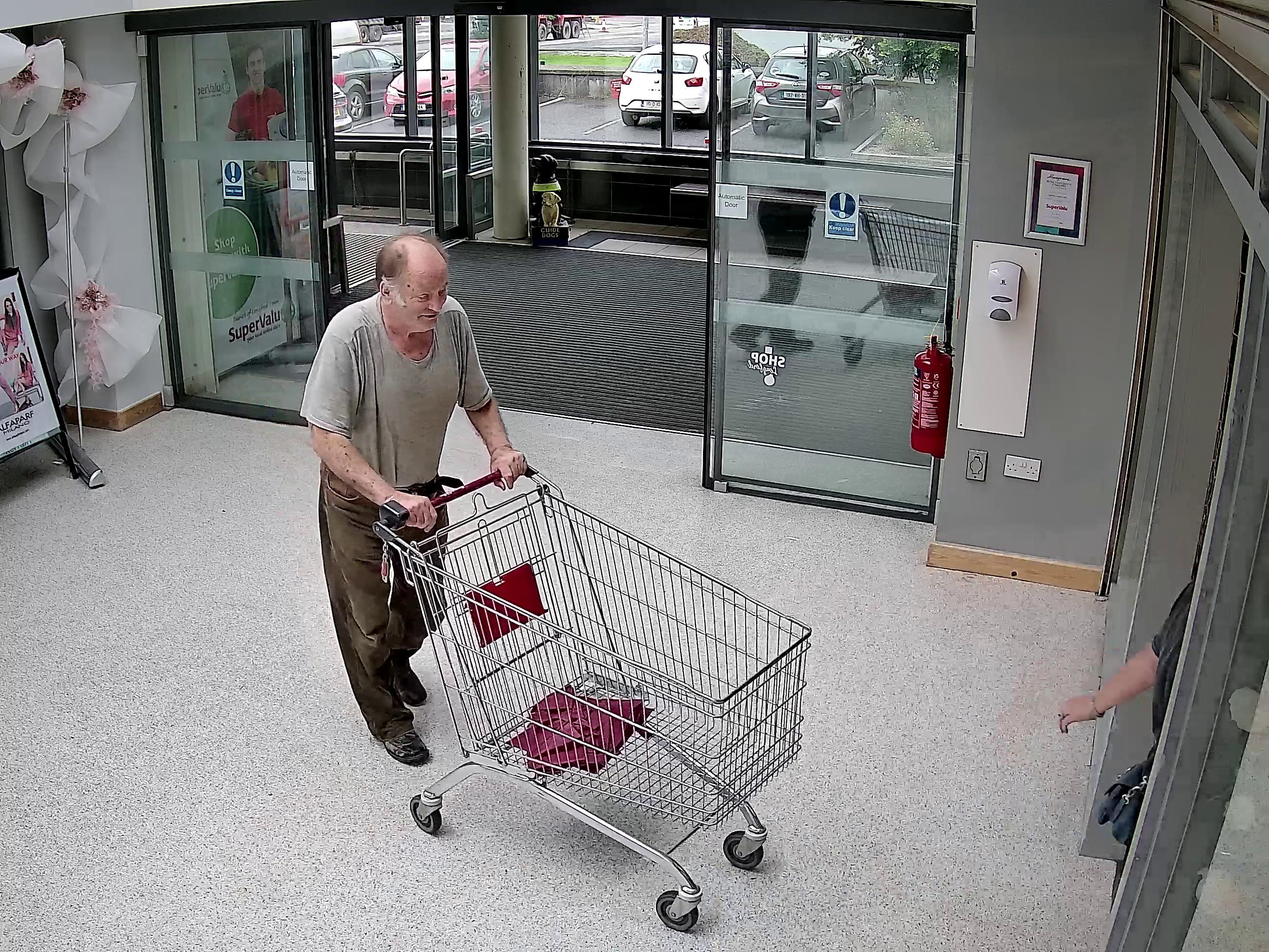empty-trolly: (372, 459, 810, 928)
person: (300, 234, 523, 764)
person-with-empty-basket-trolly: (302, 232, 810, 928)
